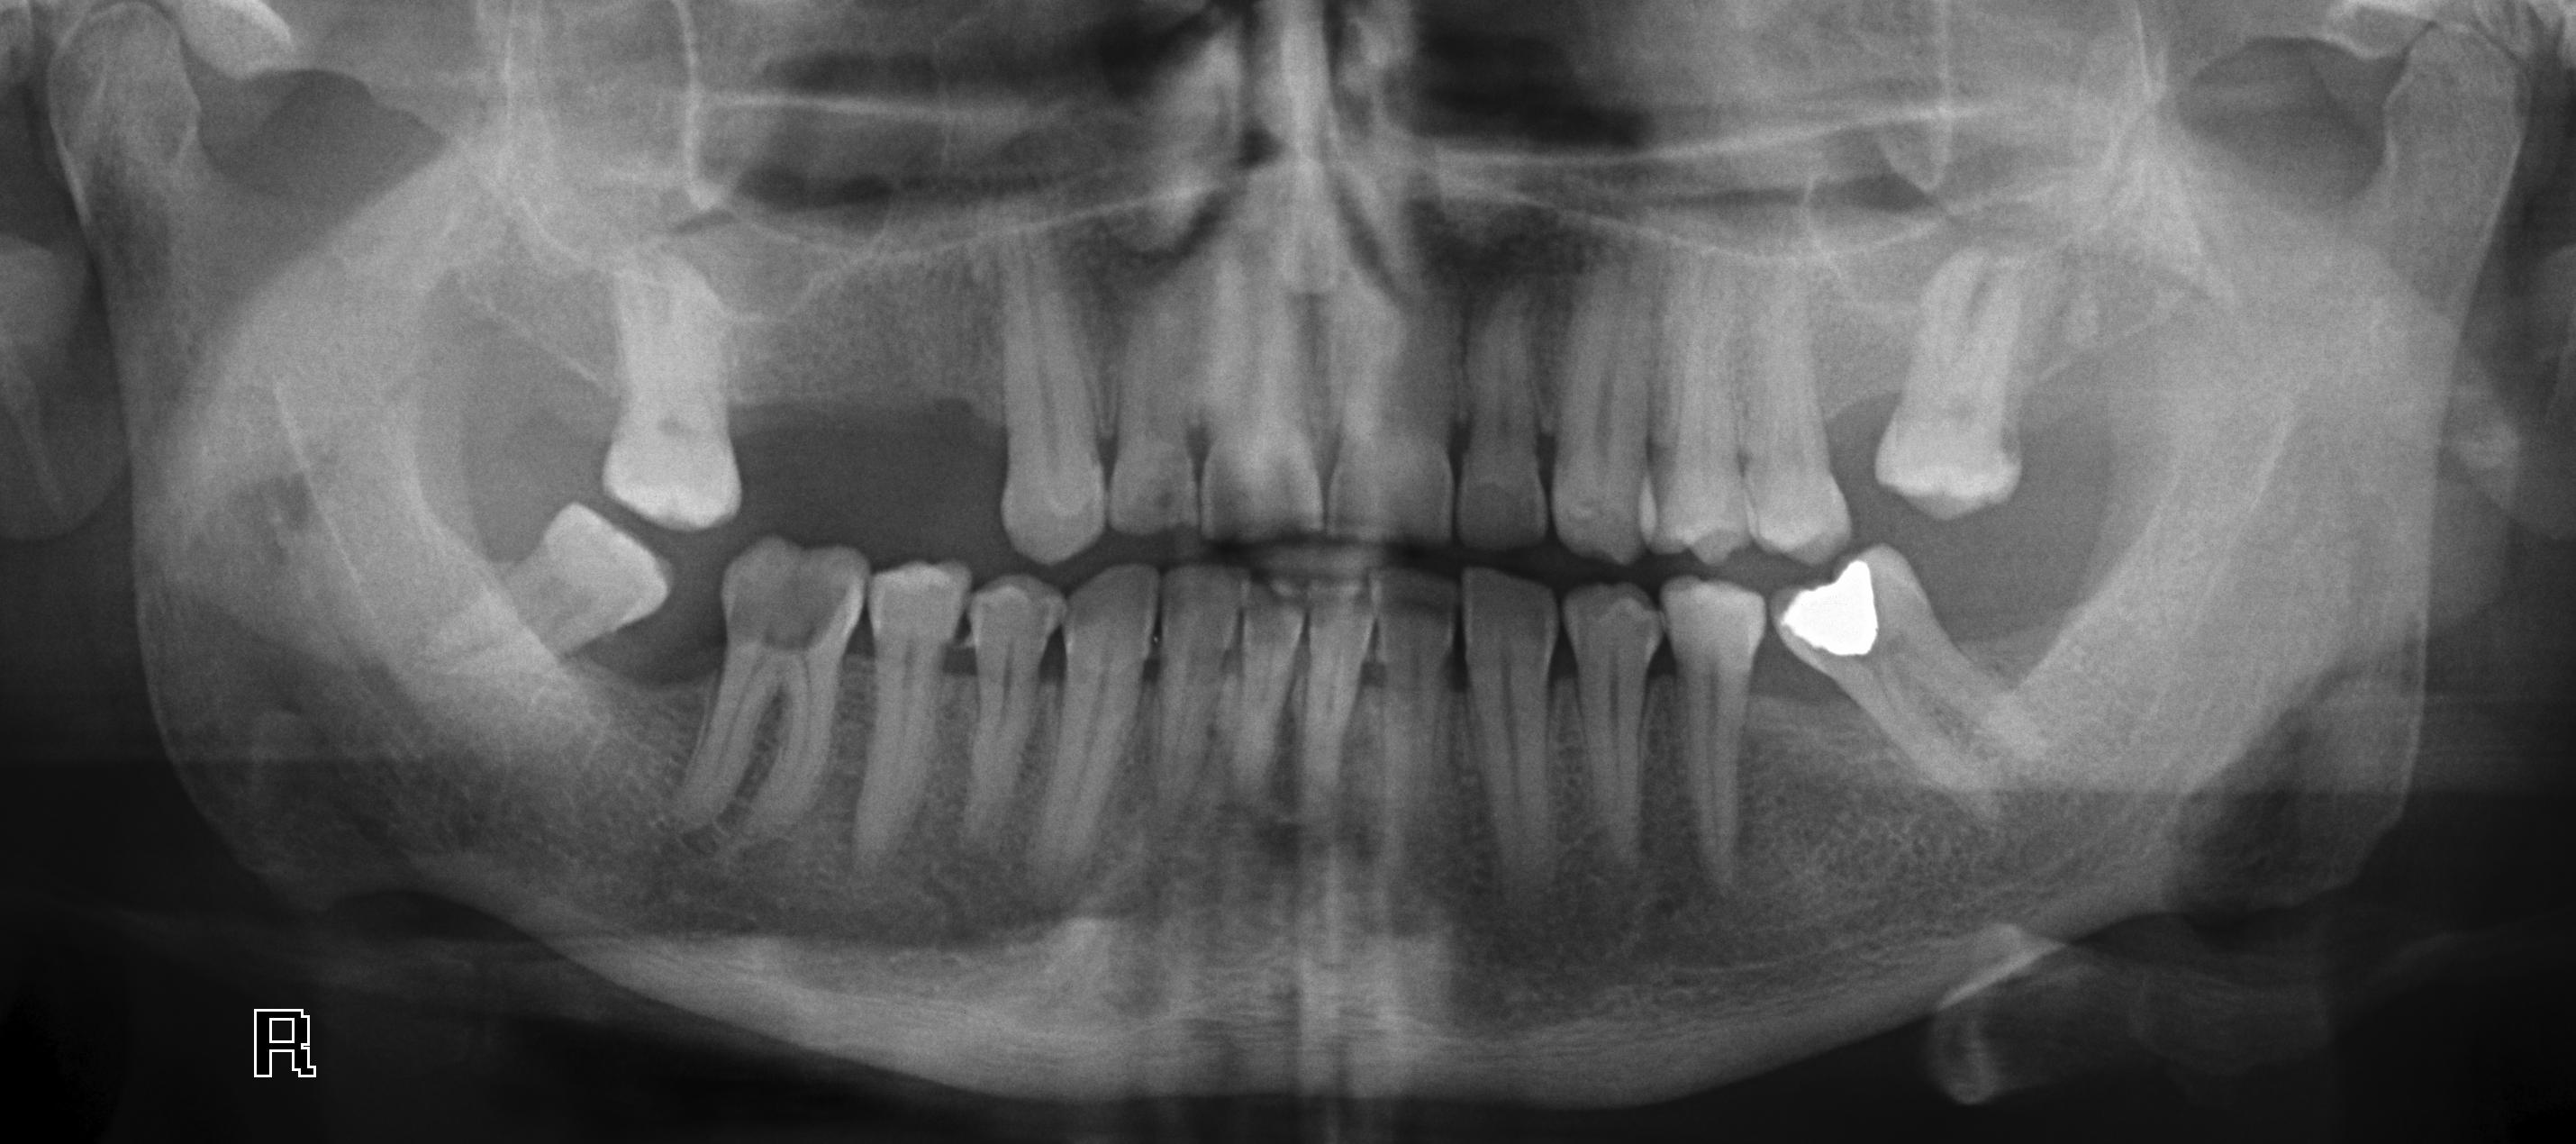Çürük: (1773, 564, 1900, 668)
Çürük Bölgesi: (748, 579, 823, 652), (2000, 425, 2030, 474)
